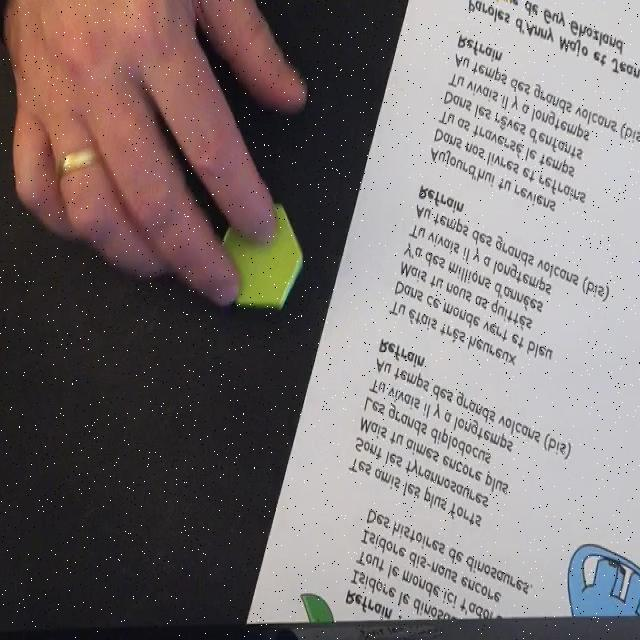hexagon: (215, 200, 305, 312)
